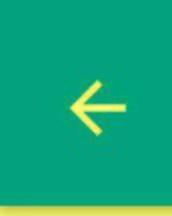ImgButton: (1, 1, 171, 215)
